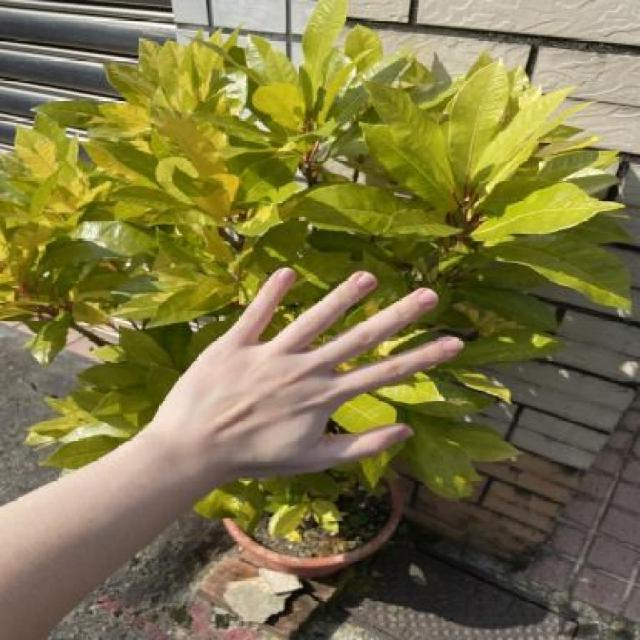hand: (121, 258, 484, 500)
